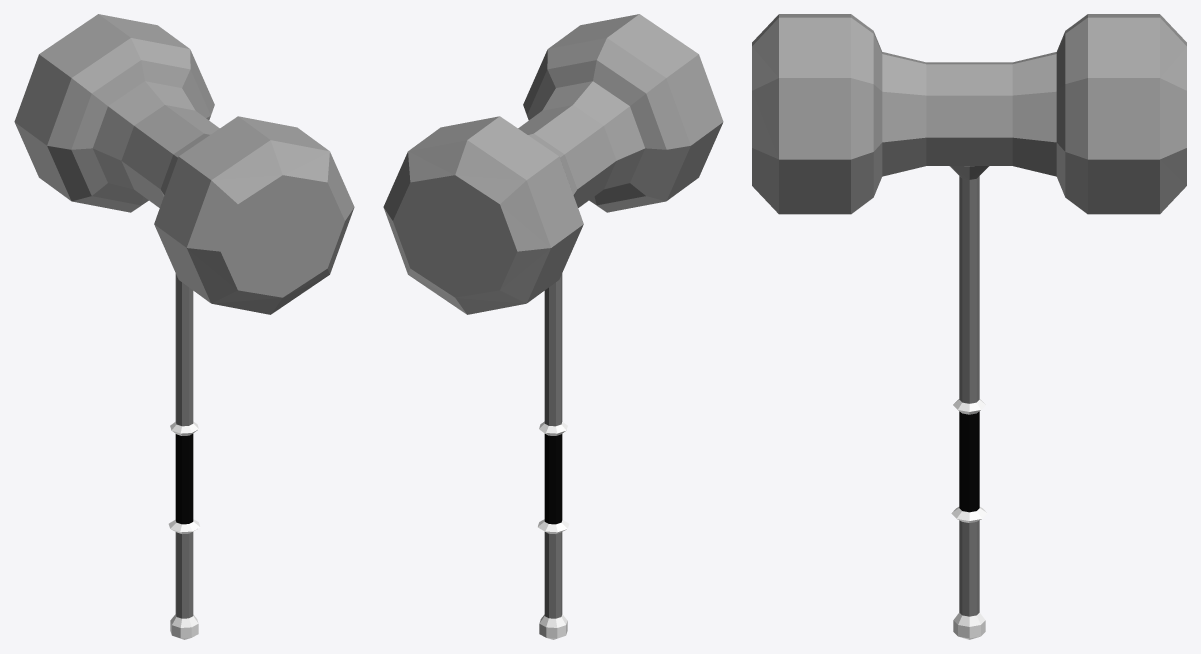
Rendered from hammer.obj.
The picture shows the model from 3 angles, left to right: view 1: azimuth 30°, elevation 25°; view 2: azimuth 150°, elevation 25°; view 3: azimuth 270°, elevation 25°; orthographic projection. The views are drawn at different scales.
Visible parts, largest first — view 1: 円柱; view 2: 円柱; view 3: 円柱.
Part boxes in pixels (x1,y1,x2,y2): 円柱: (14, 14, 354, 639); 円柱: (383, 14, 723, 639); 円柱: (752, 14, 1186, 639).
Size of the model in its own units: 1.57 by 5.02 by 3.18.
Materials: 1 (1 with a texture image).
